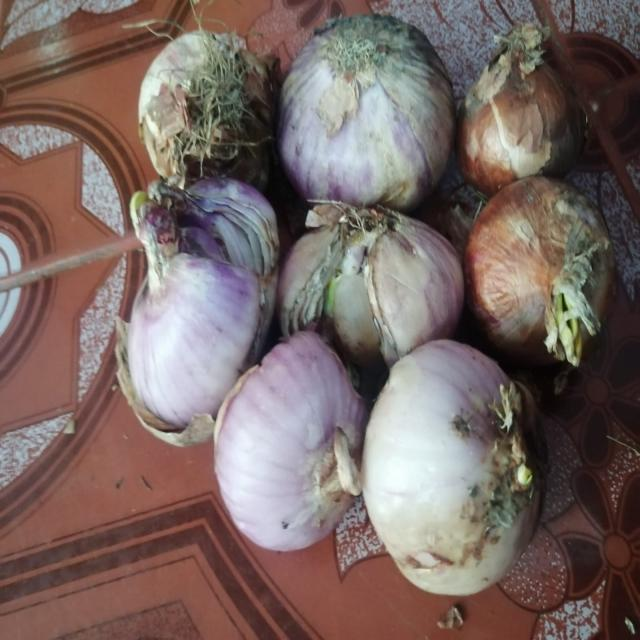rotten: (302, 226, 386, 376), (175, 212, 264, 282), (321, 24, 419, 84), (500, 103, 574, 163)
sprouting: (112, 184, 162, 234), (554, 294, 580, 364), (514, 460, 532, 490)
